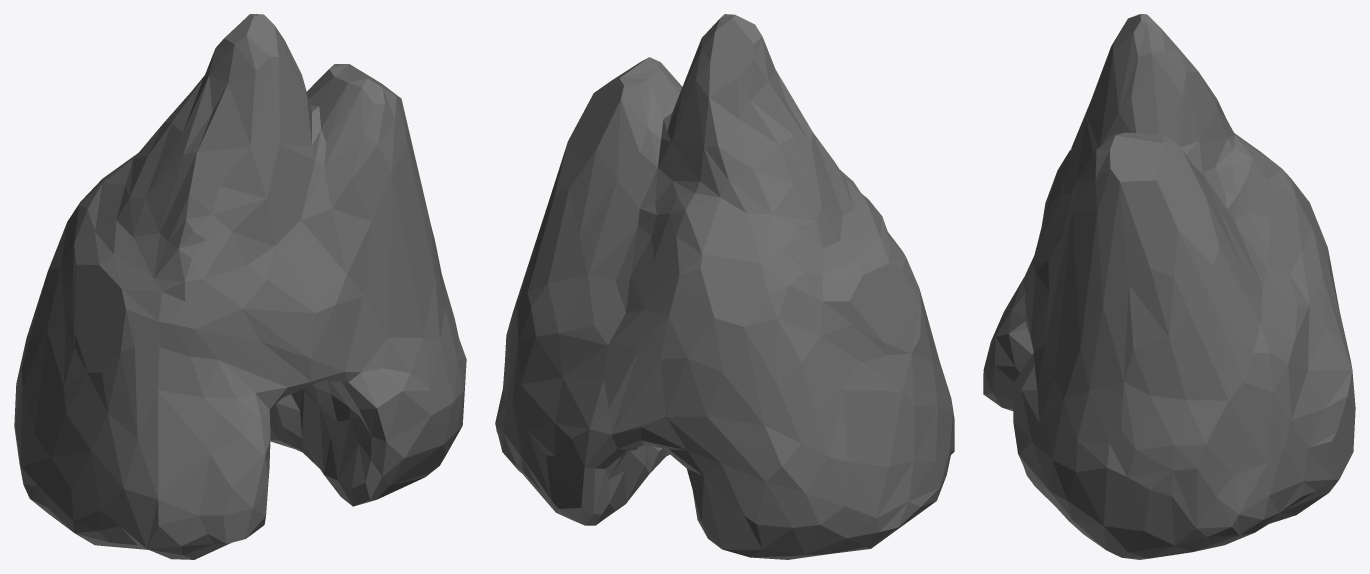
The model's file is Cave_08.fbx.
3 views of the same model, side by side, from view 1: azimuth 30°, elevation 25°; view 2: azimuth 150°, elevation 25°; view 3: azimuth 270°, elevation 25° (orthographic). The views are drawn at different scales.
Parts seen in each view (by area): view 1: Cave_08_LOD0; view 2: Cave_08_LOD0; view 3: Cave_08_LOD0.
Part boxes in pixels (x1,y1,x2,y2): Cave_08_LOD0: [14, 14, 466, 559]; Cave_08_LOD0: [495, 14, 954, 559]; Cave_08_LOD0: [983, 14, 1355, 559].
Size of what is drawn, in the model's own units: 11.45 by 13.24 by 9.52.
